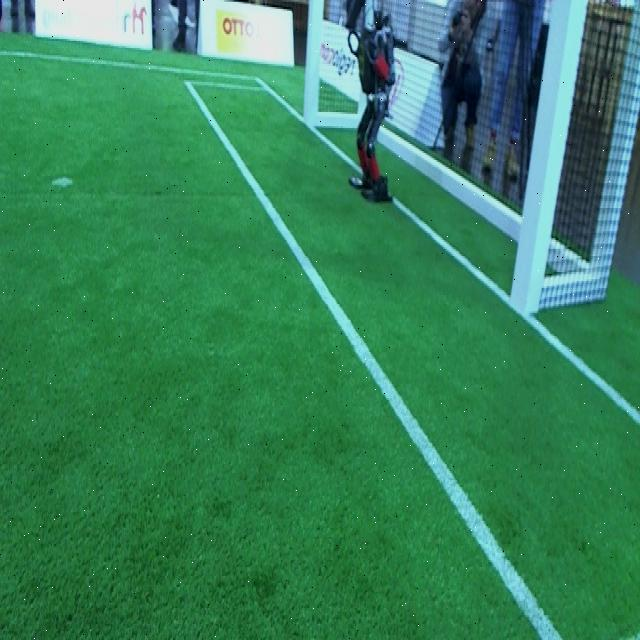goalpost: (510, 0, 589, 315), (302, 2, 324, 126)
